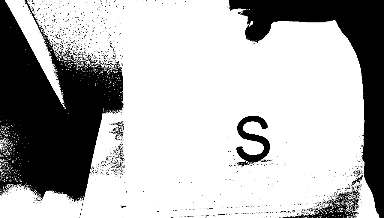S: (227, 108, 273, 165)
